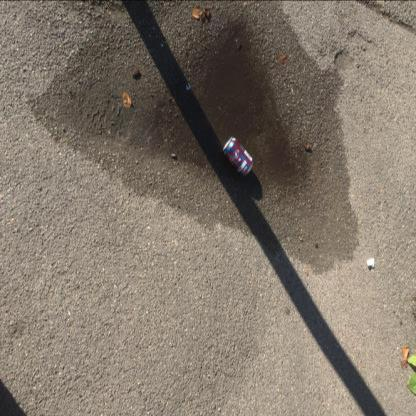Can: (222, 136, 253, 176)
Unlabeled litter: (366, 258, 374, 267)
